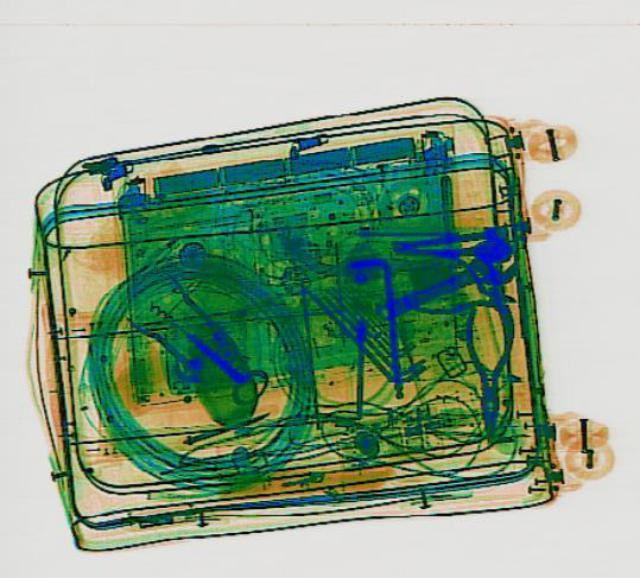Pliers: (398, 246, 524, 328), (462, 303, 512, 440)
